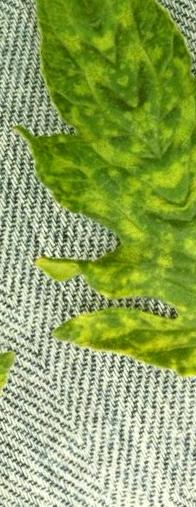Tomato leaf mosaic virus: (0, 0, 196, 486)
